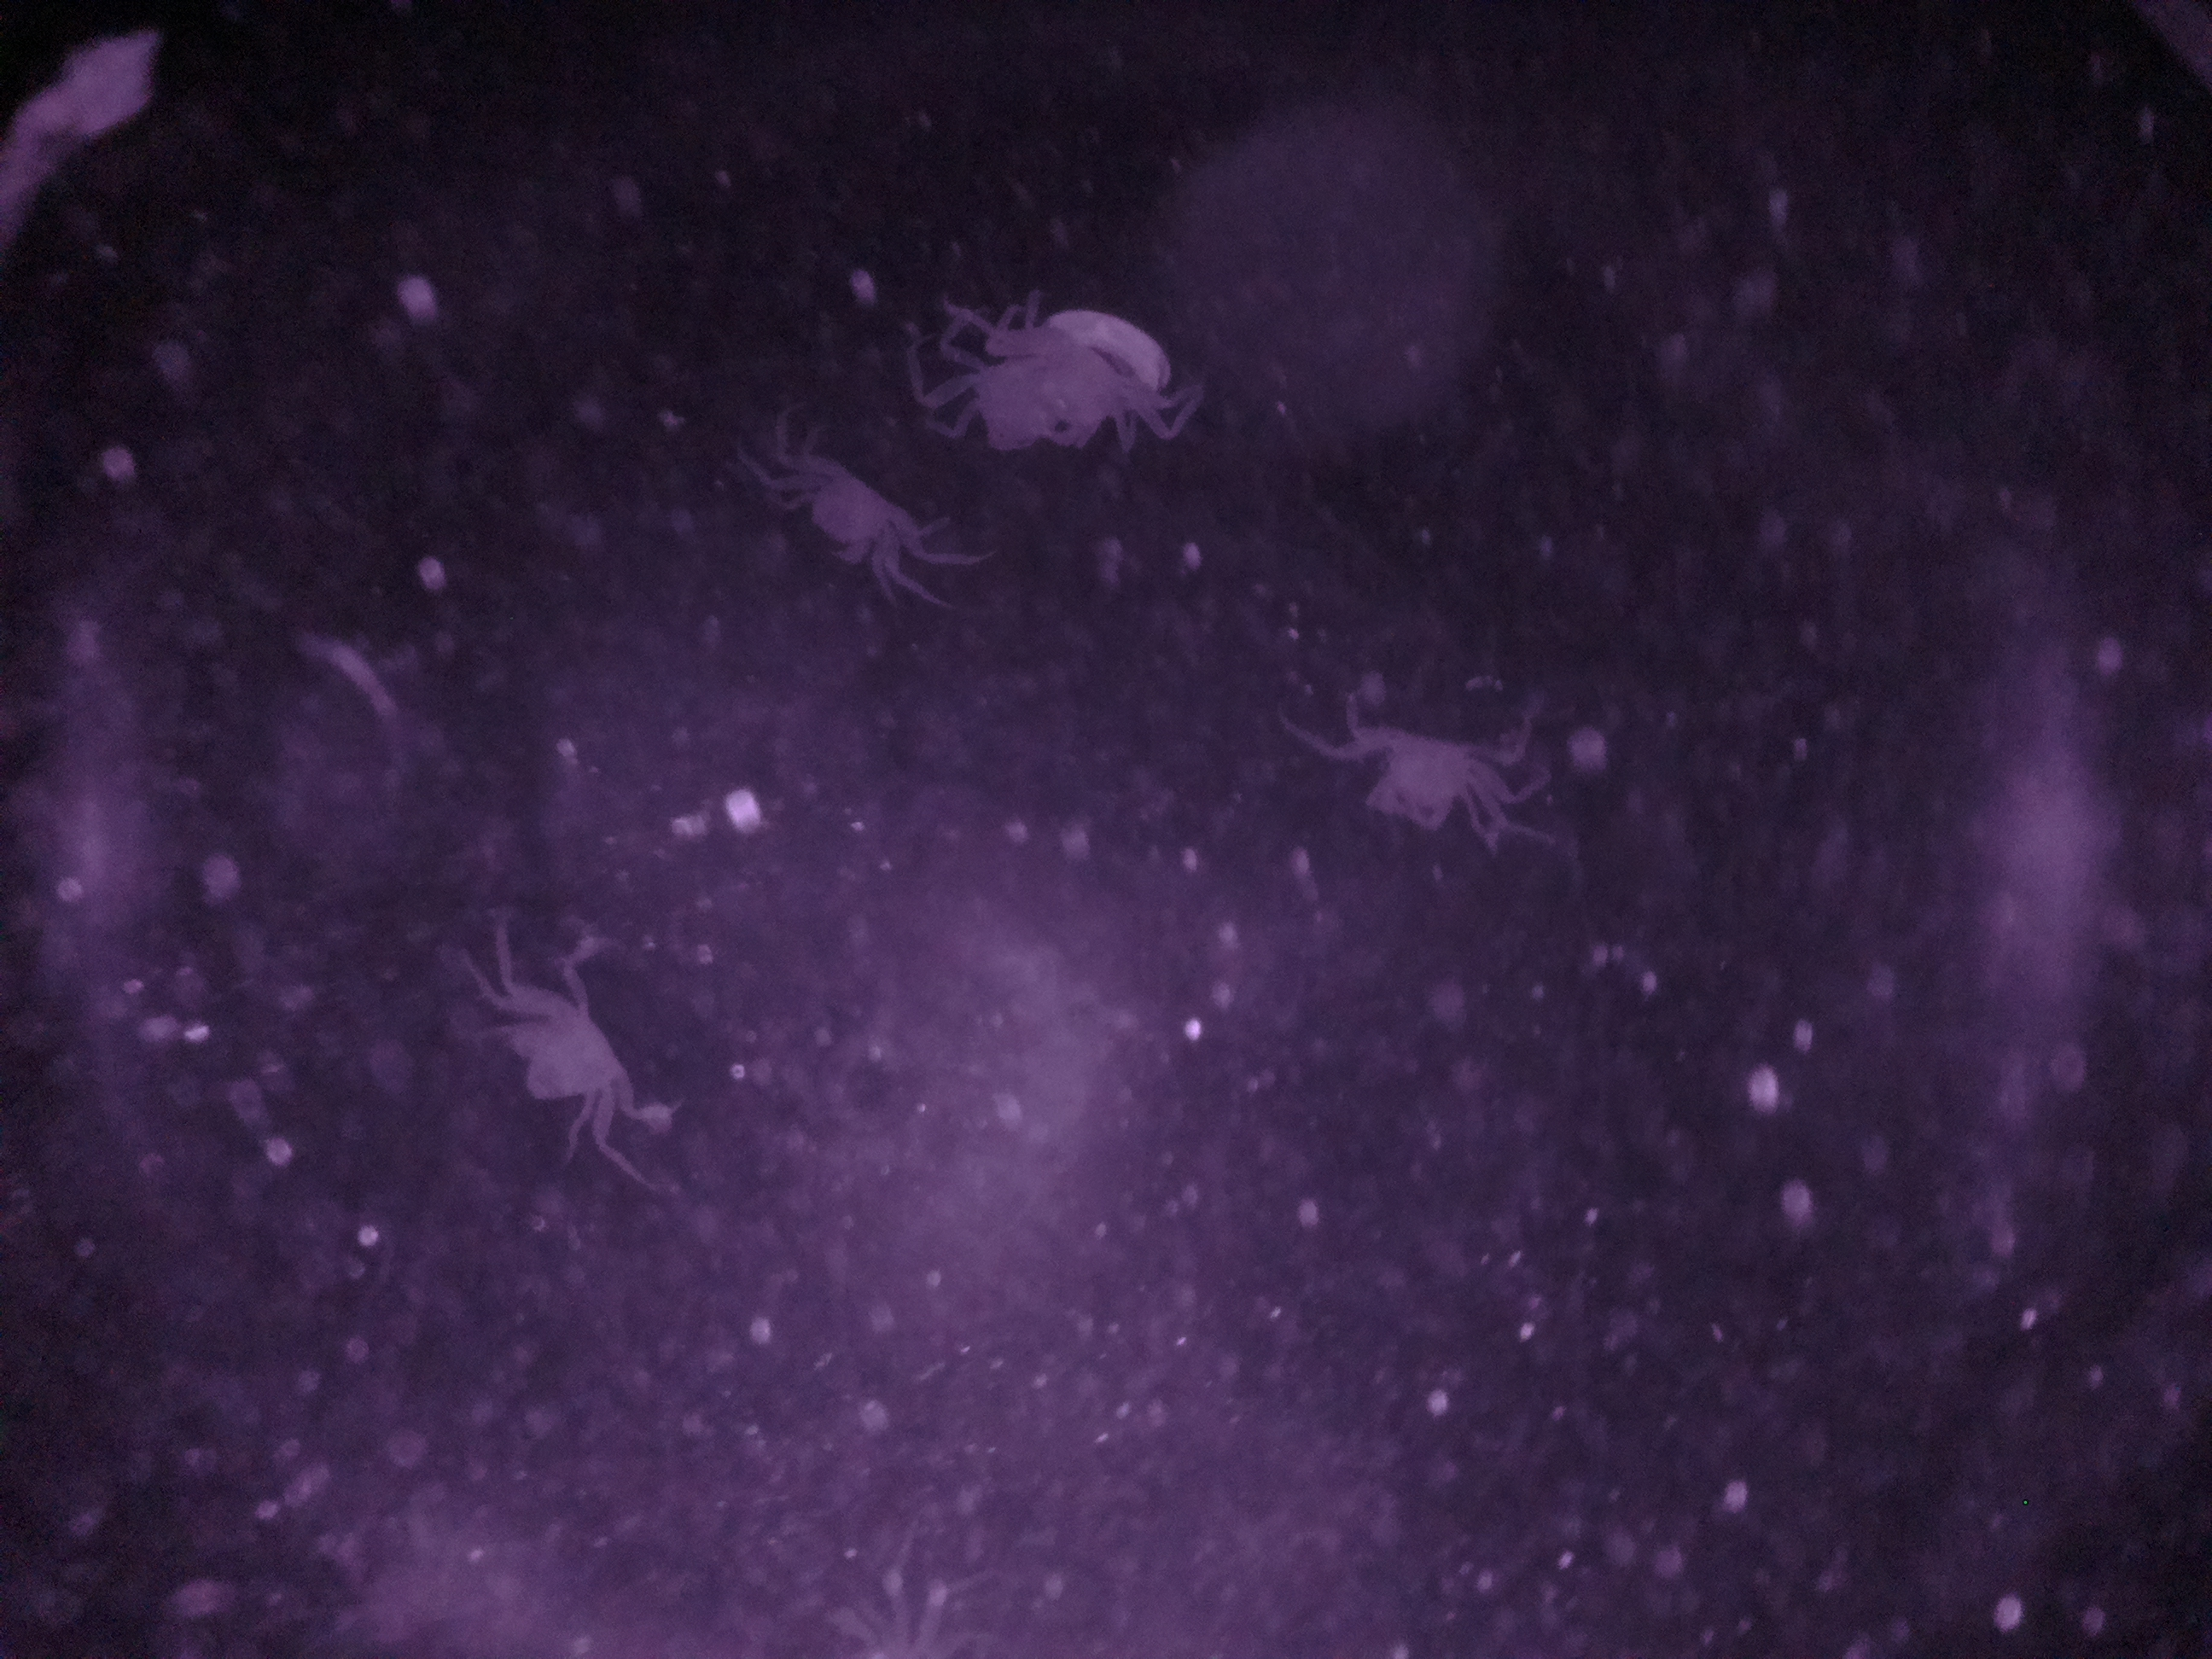Crab: (770, 434, 930, 599), (488, 965, 648, 1121)
